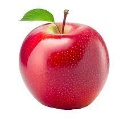apple: (21, 23, 110, 109)
